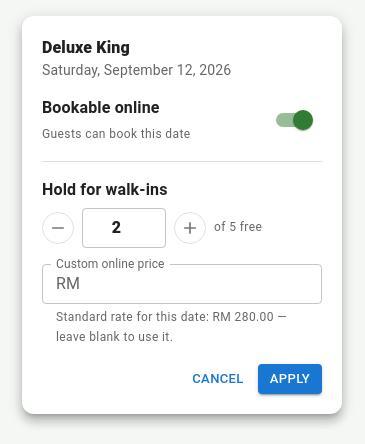
Test: CellEditorPopover › blocks Apply when the price is invalid
In the number field labelled "Custom online price": (205, 284) [88,264,322,304], type "0"
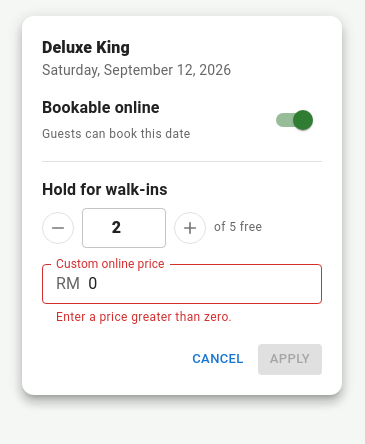
Expected: the button "Apply" is disabled, [258,344,322,375]
Expected: the text "Enter a price greater than zero." is shown, [56,310,232,324]
